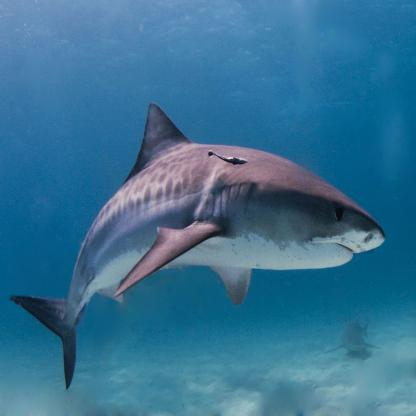tiger-shark: (8, 101, 386, 390)
